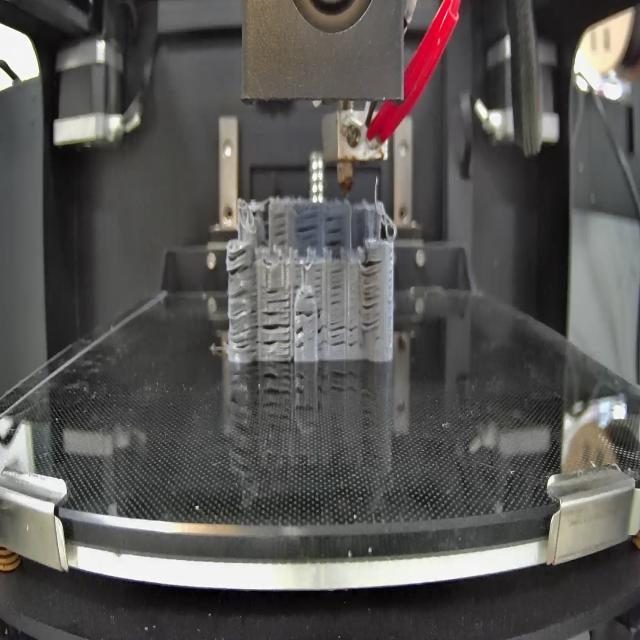cracks: (230, 288, 258, 356), (360, 258, 382, 329), (262, 310, 292, 357), (318, 322, 359, 350), (227, 242, 254, 276), (326, 214, 344, 250), (298, 215, 320, 243), (329, 270, 344, 308), (273, 212, 287, 247), (268, 287, 291, 308), (291, 261, 305, 290), (295, 308, 325, 320), (295, 322, 305, 352), (315, 266, 323, 296), (304, 292, 316, 302)
